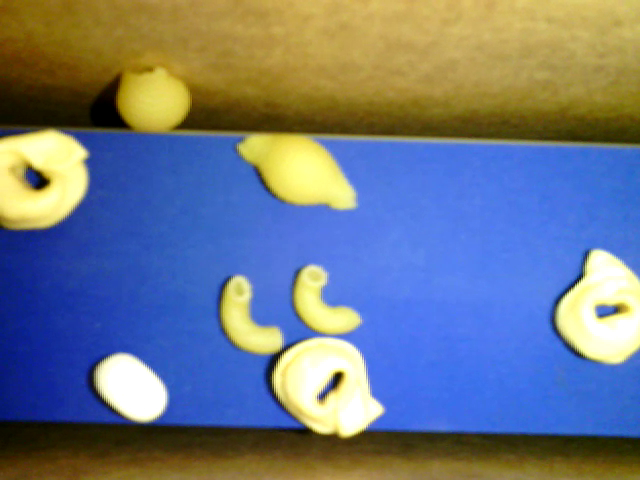elbow: (219, 273, 283, 354), (290, 265, 362, 336)
shell: (235, 132, 357, 211), (116, 65, 191, 131)
tortellini: (271, 336, 385, 437), (555, 249, 639, 365), (1, 128, 91, 230)
